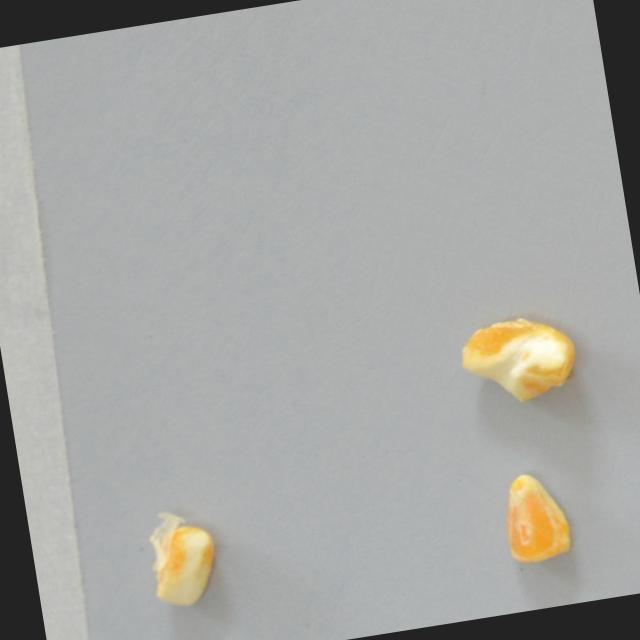pelicula: (451, 303, 583, 414), (138, 500, 226, 621), (493, 462, 578, 570)
